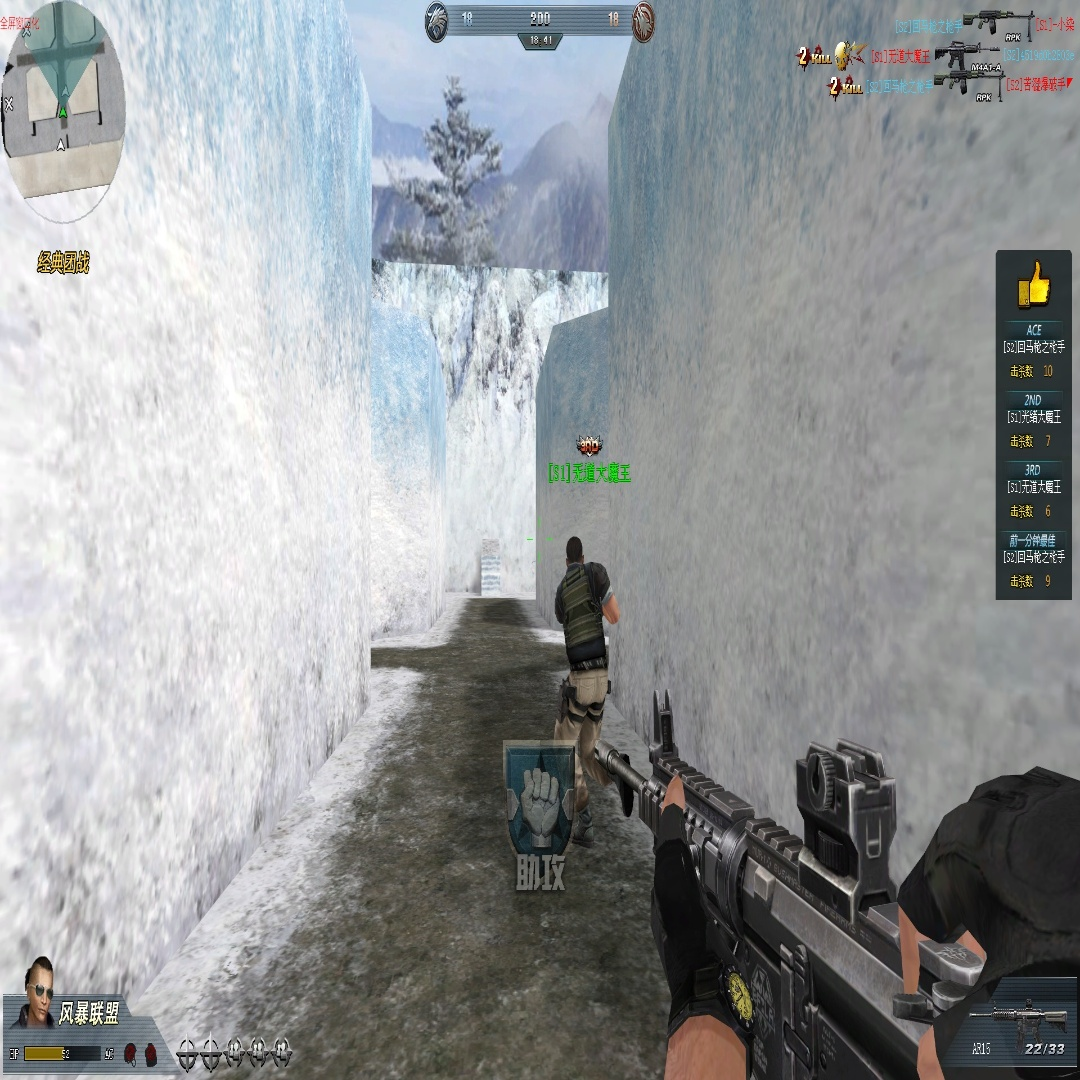t: (554, 536, 619, 784)
